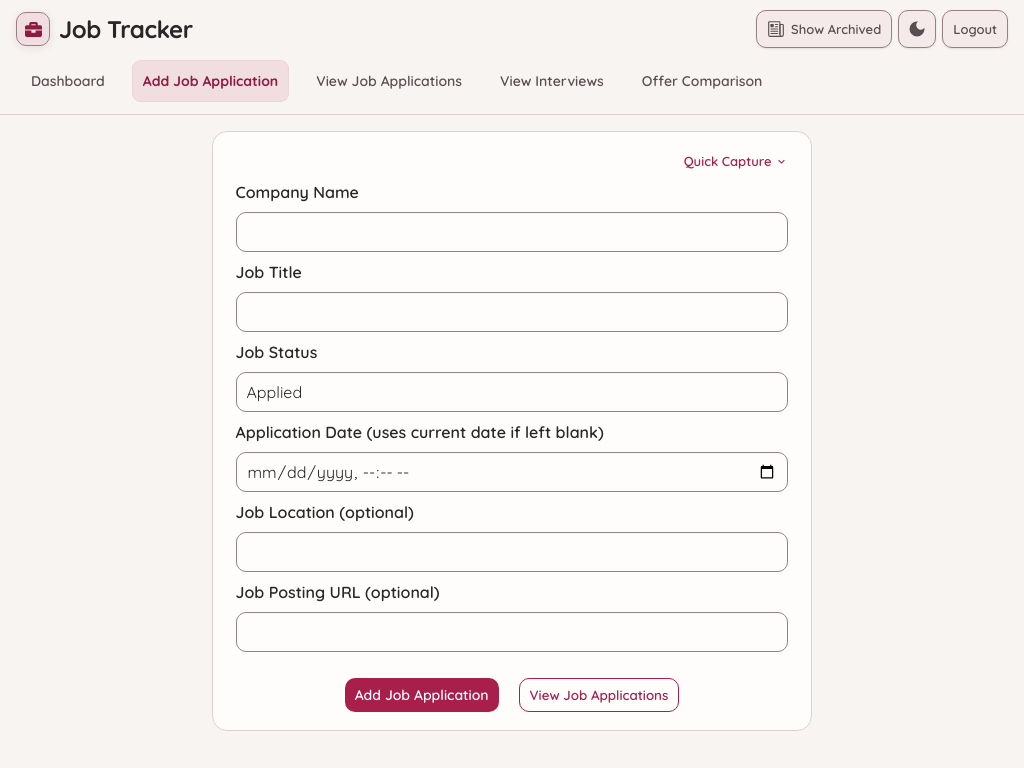
Scenario: App routing and authentication behavior › labels the production theme action with the theme it will switch to
Expected: the field labelled "Company Name" is shown, 236,212 -> 788,252
Click the button named "Switch to dark mode".
click(917, 29)  # box 898,10 -> 936,48
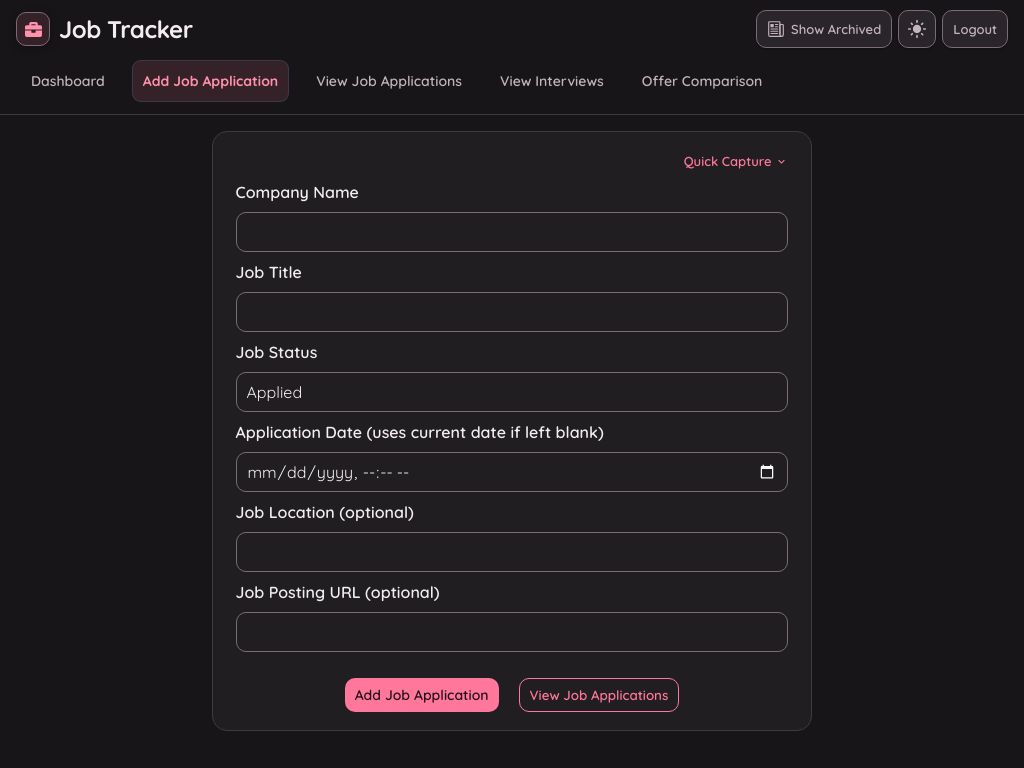
Expected: the button named "Switch to light mode" is shown, 898,10 -> 936,48
